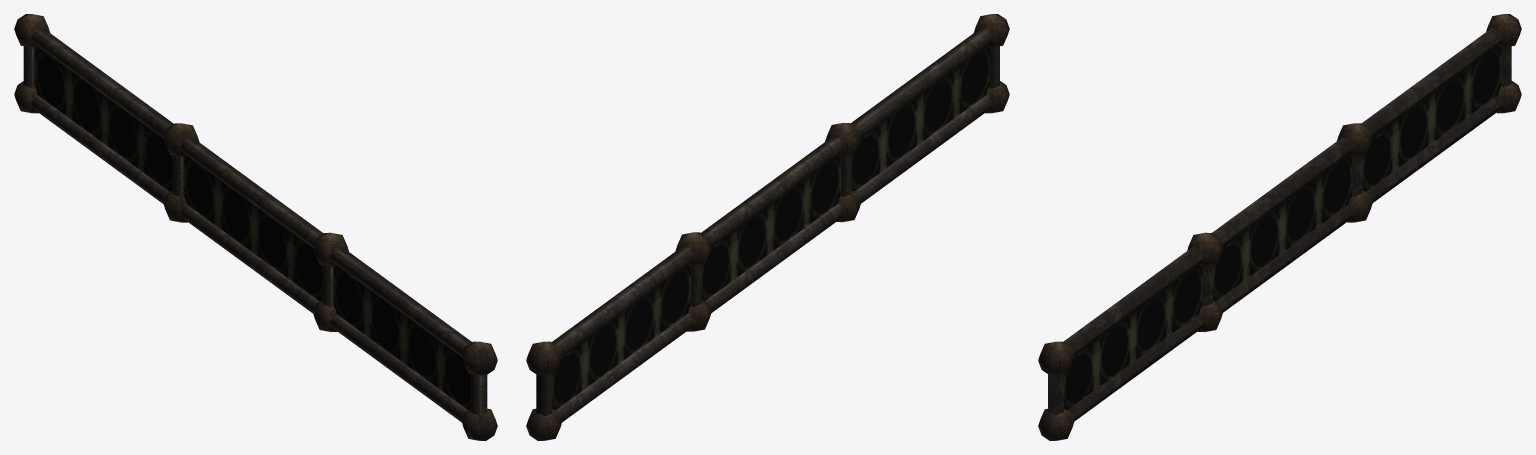
The model's file is railings_factory_3m_support_dirty.DAE.
3 views of the same model, side by side, from view 1: azimuth 30°, elevation 25°; view 2: azimuth 150°, elevation 25°; view 3: azimuth 330°, elevation 25° (orthographic).
Parts seen in each view (by area): view 1: Object139, Object140; view 2: Object139, Object140; view 3: Object139, Object140.
Boxes of the visible parts, x1=… form: Object139: x1=14, y1=14, x2=497, y2=440; Object140: x1=34, y1=46, x2=470, y2=410; Object139: x1=526, y1=14, x2=1009, y2=440; Object140: x1=552, y1=46, x2=989, y2=410; Object139: x1=1038, y1=14, x2=1521, y2=440; Object140: x1=1064, y1=46, x2=1501, y2=410.
Size of the model in its own units: 0.12 by 0.3522 by 2.99.
